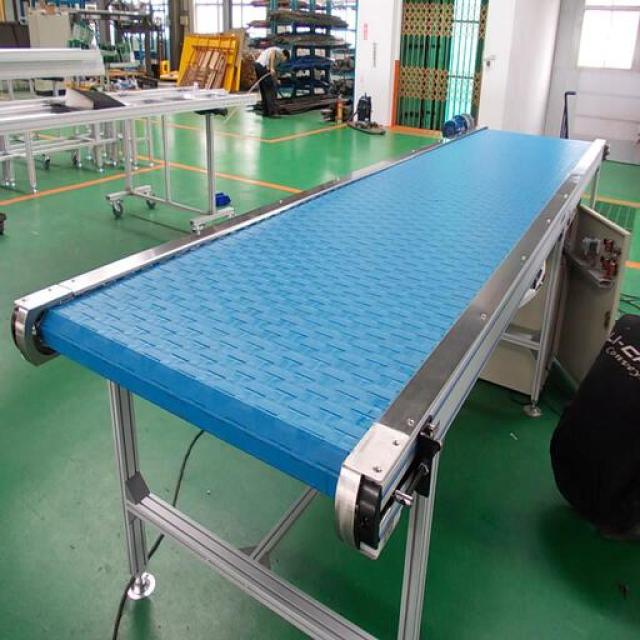conveyor: (33, 128, 594, 493)
